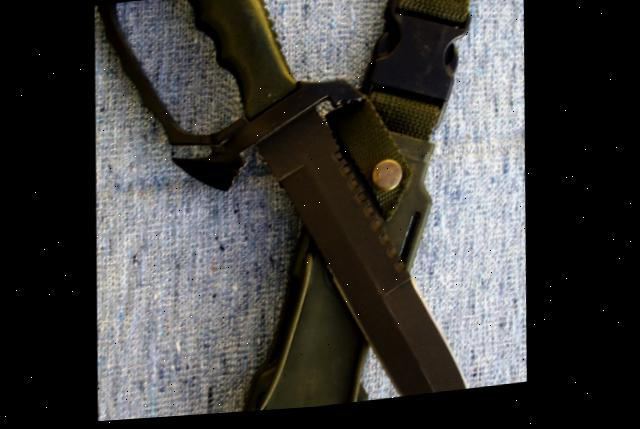pocket-knife: (86, 0, 505, 424)
